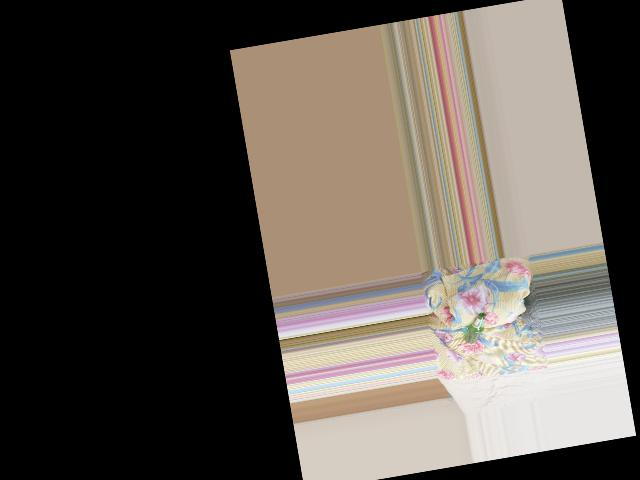beer: (460, 311, 489, 343)
